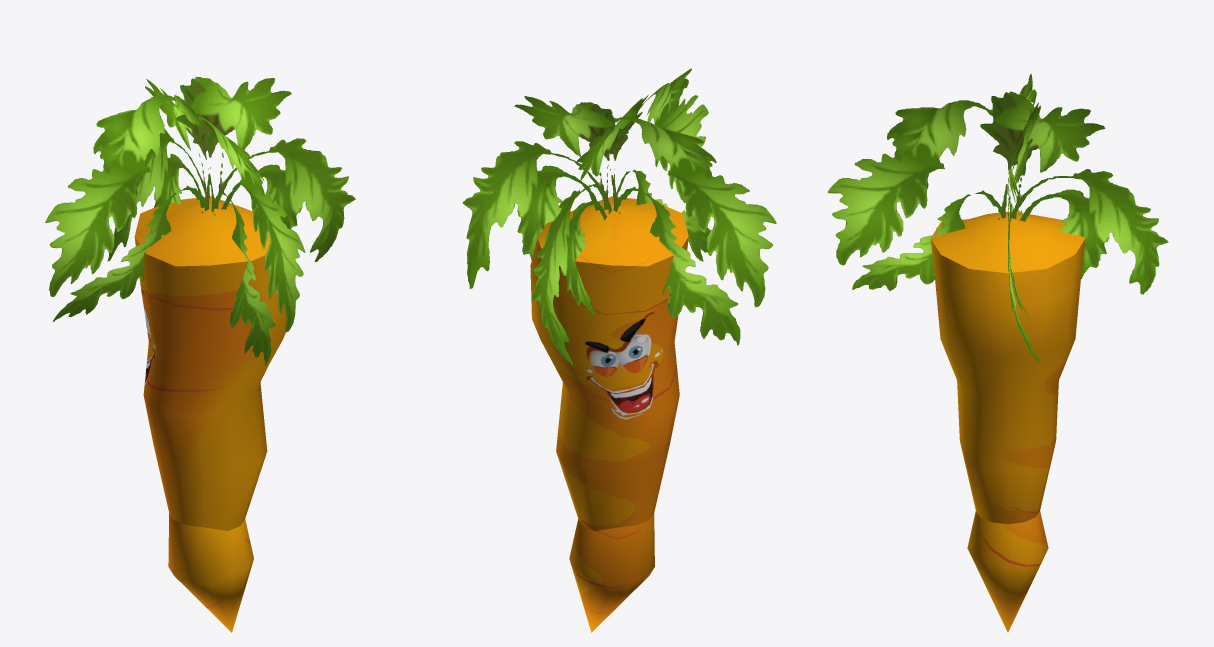
File: CarrotNew.FBX
The picture shows the model from 3 angles, left to right: view 1: azimuth 30°, elevation 25°; view 2: azimuth 150°, elevation 25°; view 3: azimuth 270°, elevation 25°; orthographic projection. The views are drawn at different scales.
Parts seen in each view (by area): view 1: Carrot; view 2: Carrot; view 3: Carrot.
Boxes of the visible parts, <box> form: Carrot: <box>45,76,355,632</box>; Carrot: <box>462,68,776,632</box>; Carrot: <box>827,74,1168,632</box>.
Bounding box in the file's own units: 49.02 × 49.02 × 74.58.
